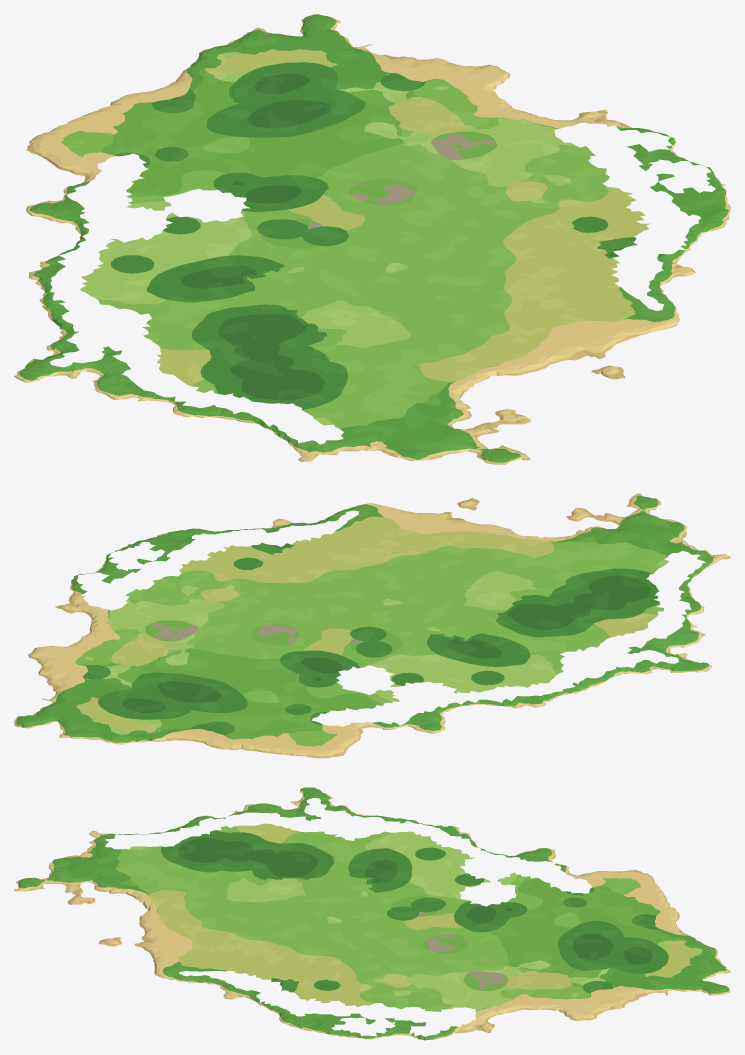
The model's file is Isl-bot4-Ground.fbx.
3 views of the same model, one above another, from view 1: azimuth 30°, elevation 25°; view 2: azimuth 150°, elevation 25°; view 3: azimuth 270°, elevation 25° (orthographic). The views are drawn at different scales.
Visible parts, largest first — view 1: Isl-bot4-Ground-c11, Isl-bot4-Ground-c22, Isl-bot4-Ground-c21, Isl-bot4-Ground-c12, Isl-bot4-Ground-c10, Isl-bot4-Ground-c23, Isl-bot4-Ground-c01; view 2: Isl-bot4-Ground-c11, Isl-bot4-Ground-c22, Isl-bot4-Ground-c21, Isl-bot4-Ground-c12, Isl-bot4-Ground-c10, Isl-bot4-Ground-c23, Isl-bot4-Ground-c01; view 3: Isl-bot4-Ground-c22, Isl-bot4-Ground-c11, Isl-bot4-Ground-c21, Isl-bot4-Ground-c12, Isl-bot4-Ground-c10, Isl-bot4-Ground-c23.
Boxes of the visible parts, box(x1,y1,x2,y2) form: Isl-bot4-Ground-c11: box(45, 231, 535, 443); Isl-bot4-Ground-c22: box(155, 40, 676, 231); Isl-bot4-Ground-c21: box(349, 153, 730, 371); Isl-bot4-Ground-c12: box(26, 90, 348, 308); Isl-bot4-Ground-c10: box(289, 400, 530, 464); Isl-bot4-Ground-c23: box(174, 14, 348, 82); Isl-bot4-Ground-c01: box(14, 355, 110, 398); Isl-bot4-Ground-c11: box(353, 526, 707, 688); Isl-bot4-Ground-c22: box(28, 569, 352, 742); Isl-bot4-Ground-c21: box(100, 503, 495, 629); Isl-bot4-Ground-c12: box(200, 629, 587, 758); Isl-bot4-Ground-c10: box(566, 493, 730, 567); Isl-bot4-Ground-c23: box(14, 706, 183, 744); Isl-bot4-Ground-c01: box(659, 637, 711, 672); Isl-bot4-Ground-c22: box(399, 920, 681, 1040); Isl-bot4-Ground-c11: box(119, 802, 401, 922); Isl-bot4-Ground-c21: box(120, 920, 401, 1039); Isl-bot4-Ground-c12: box(399, 818, 679, 922); Isl-bot4-Ground-c10: box(14, 831, 121, 904); Isl-bot4-Ground-c23: box(679, 930, 730, 995).
Bounding box in the file's own units: 120 × 0.4898 × 143.
